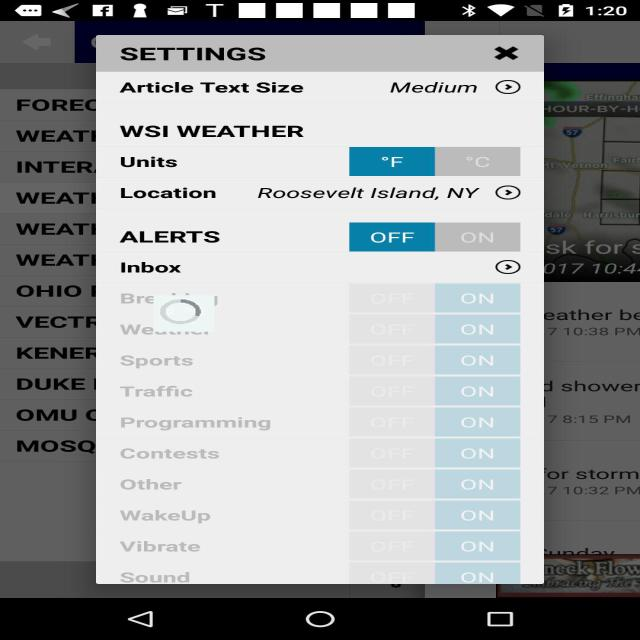misdirection: (153, 295, 214, 332)
